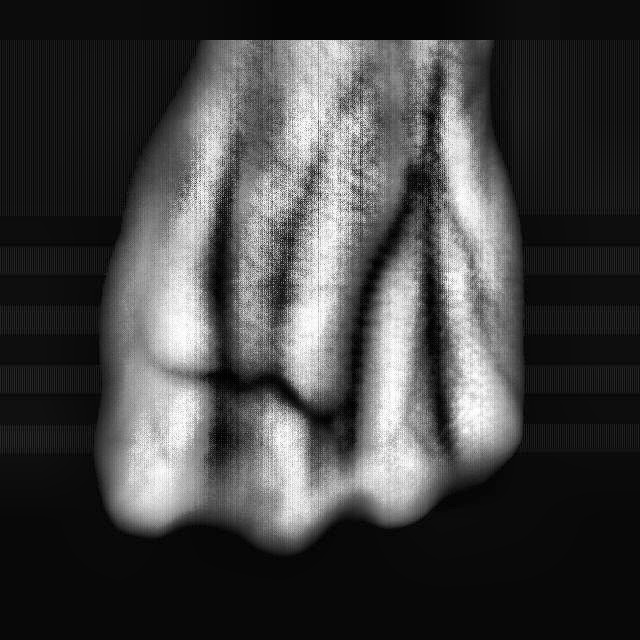Vein: (332, 178, 427, 375), (205, 136, 250, 342)
